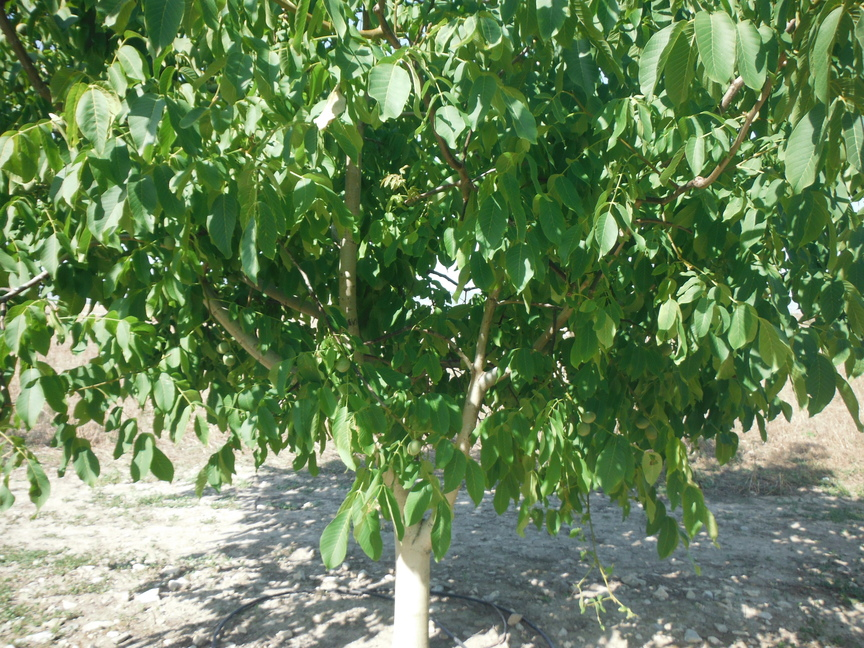walnut: (574, 420, 594, 441), (160, 233, 179, 252), (221, 350, 240, 368), (334, 355, 352, 374), (642, 424, 660, 442), (657, 340, 675, 358), (579, 408, 599, 424), (406, 438, 423, 456), (13, 20, 32, 36), (214, 339, 232, 355), (634, 414, 651, 430)
